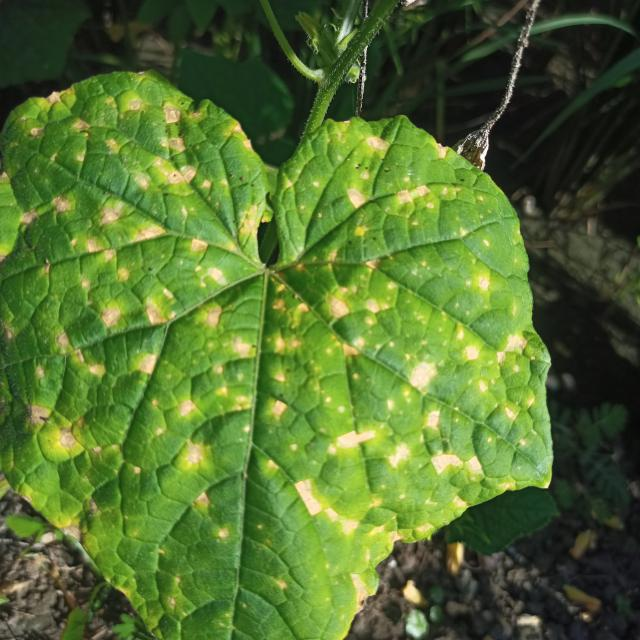disease_cucumber: (4, 81, 542, 636)
